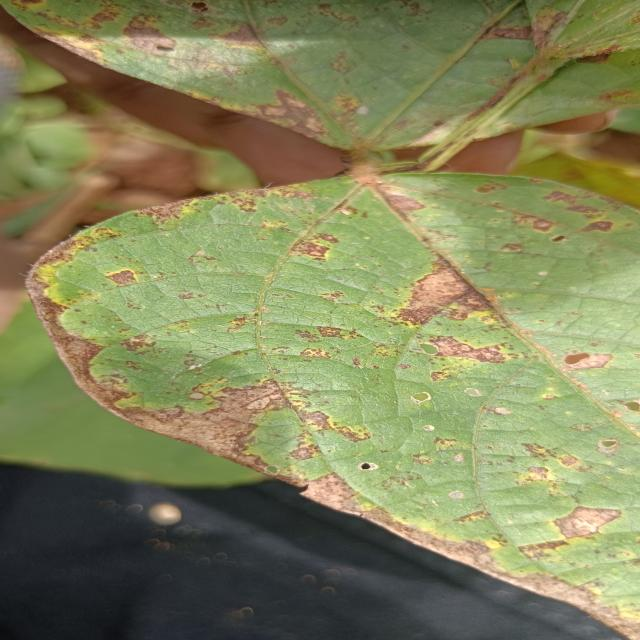Black gram_leaf spot: (18, 157, 640, 640), (0, 0, 640, 153)
